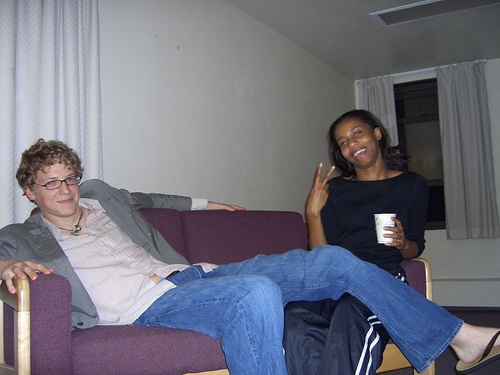head: (16, 137, 85, 217), (327, 104, 396, 184)
person: (1, 138, 317, 371), (221, 106, 483, 375)
